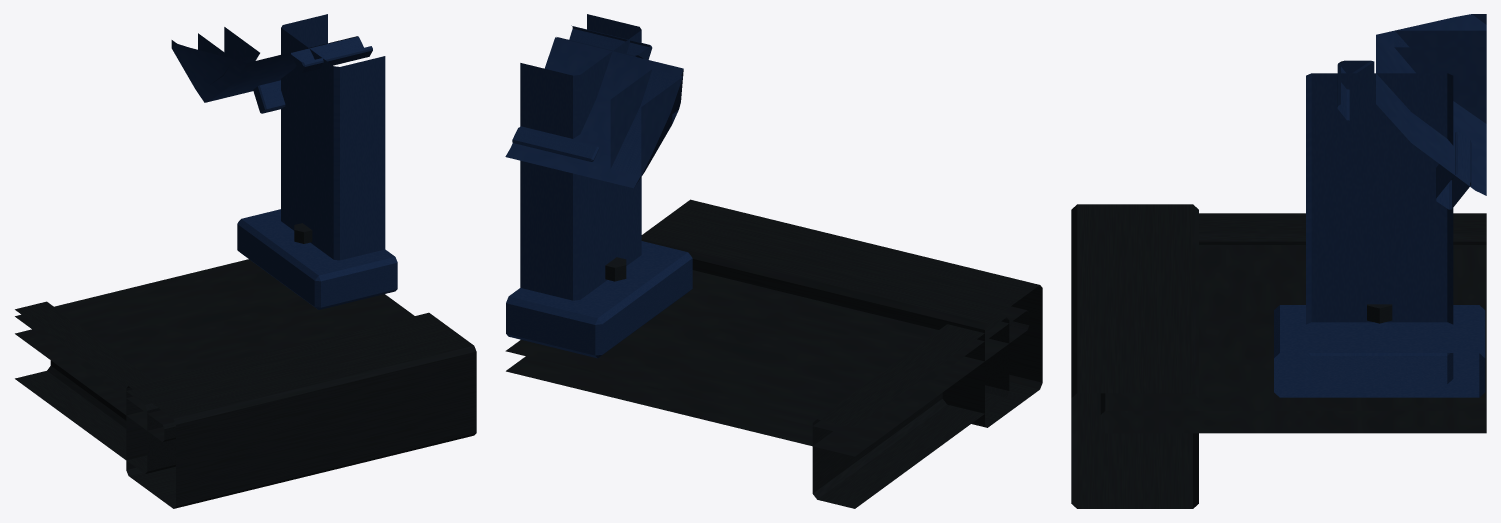
The model's file is cell_20.obj.
The picture shows the model from 3 angles, left to right: view 1: azimuth 30°, elevation 25°; view 2: azimuth 150°, elevation 25°; view 3: azimuth 270°, elevation 25°; orthographic projection. The views are drawn at different scales.
Visible parts, largest first — view 1: cell_20; view 2: cell_20; view 3: cell_20.
Part boxes in pixels (x1,y1,x2,y2): cell_20: (15,14,476,508); cell_20: (505,14,1042,508); cell_20: (1071,14,1486,508).
Size of the model in its own units: 1 by 1 by 0.93.
